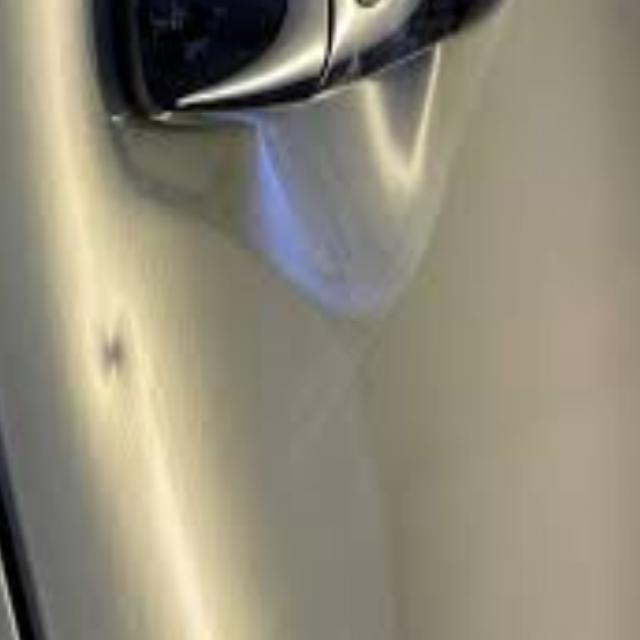dents: (70, 288, 166, 384)
